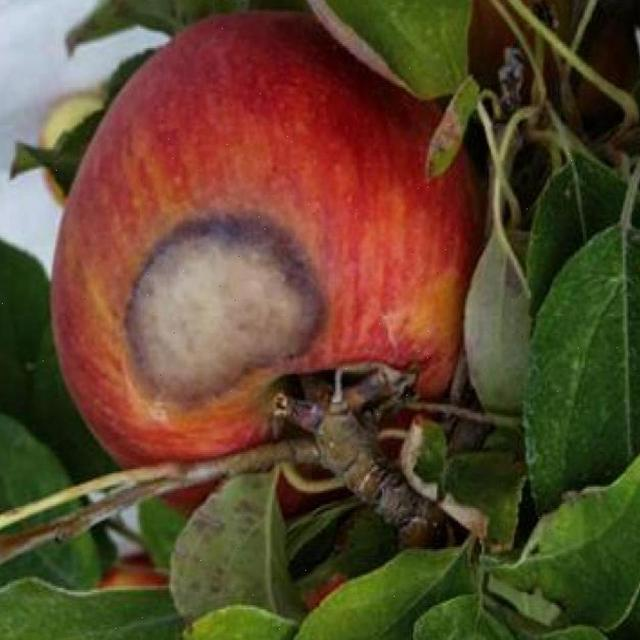Sunscald Fruit: (69, 138, 216, 274)
